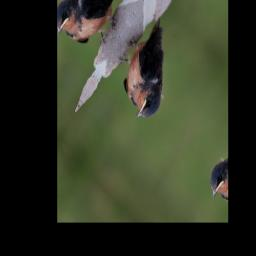Swallow: (103, 6, 193, 129)
